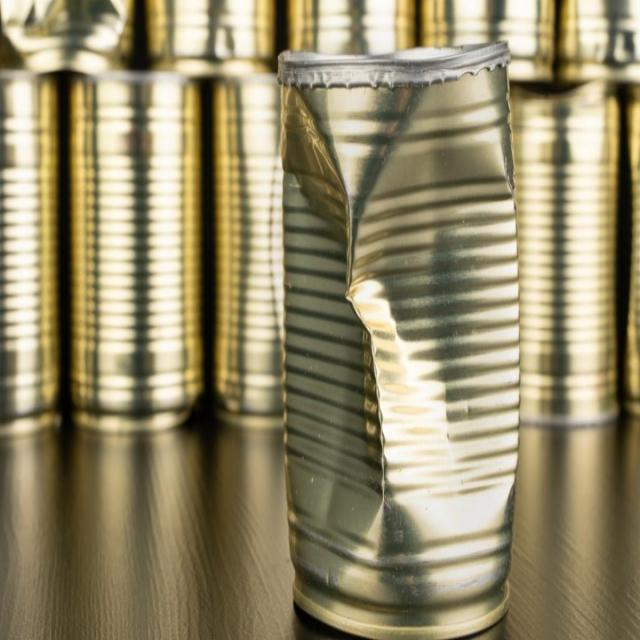Lata: (276, 36, 523, 636), (69, 74, 203, 436), (515, 85, 621, 432), (203, 70, 286, 429), (0, 66, 66, 432)
